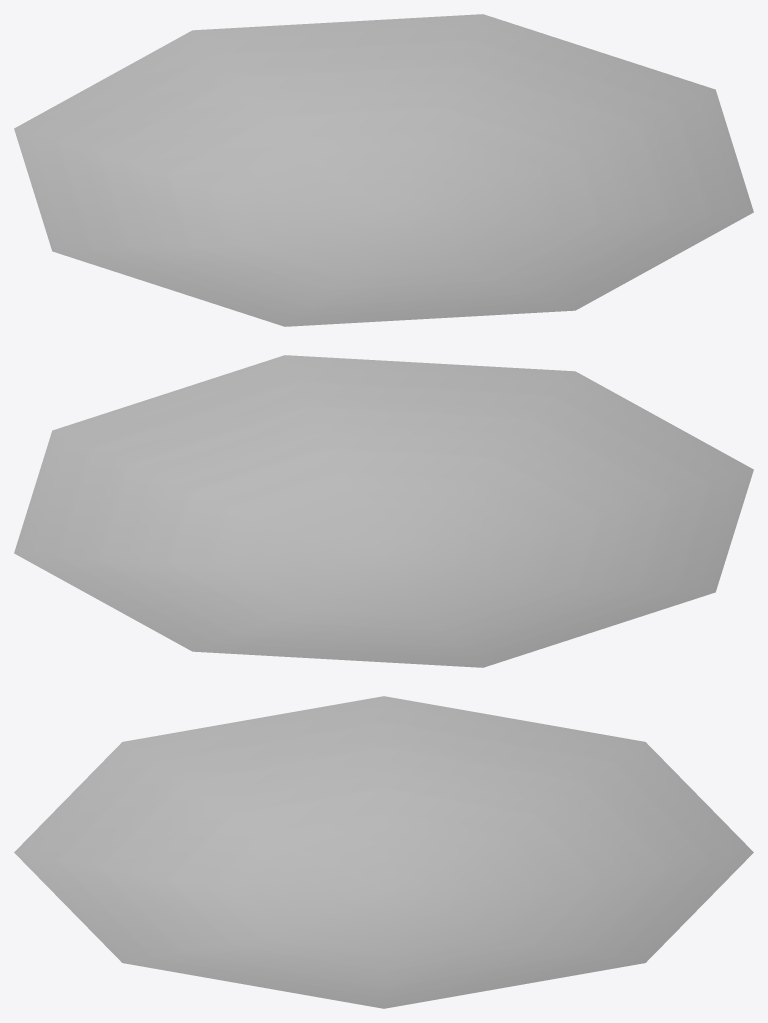
File: DinnerPlate.fbx
The picture shows the model from 3 angles, top to bottom: view 1: azimuth 30°, elevation 25°; view 2: azimuth 150°, elevation 25°; view 3: azimuth 270°, elevation 25°; orthographic projection. The views are drawn at different scales.
Parts seen in each view (by area): view 1: Plate; view 2: Plate; view 3: Plate.
Boxes of the visible parts, <box> form: Plate: <box>14,14,753,326</box>; Plate: <box>14,355,753,667</box>; Plate: <box>14,696,753,1008</box>.
Bounding box in the file's own units: 84.2 × 4.58 × 84.2.
